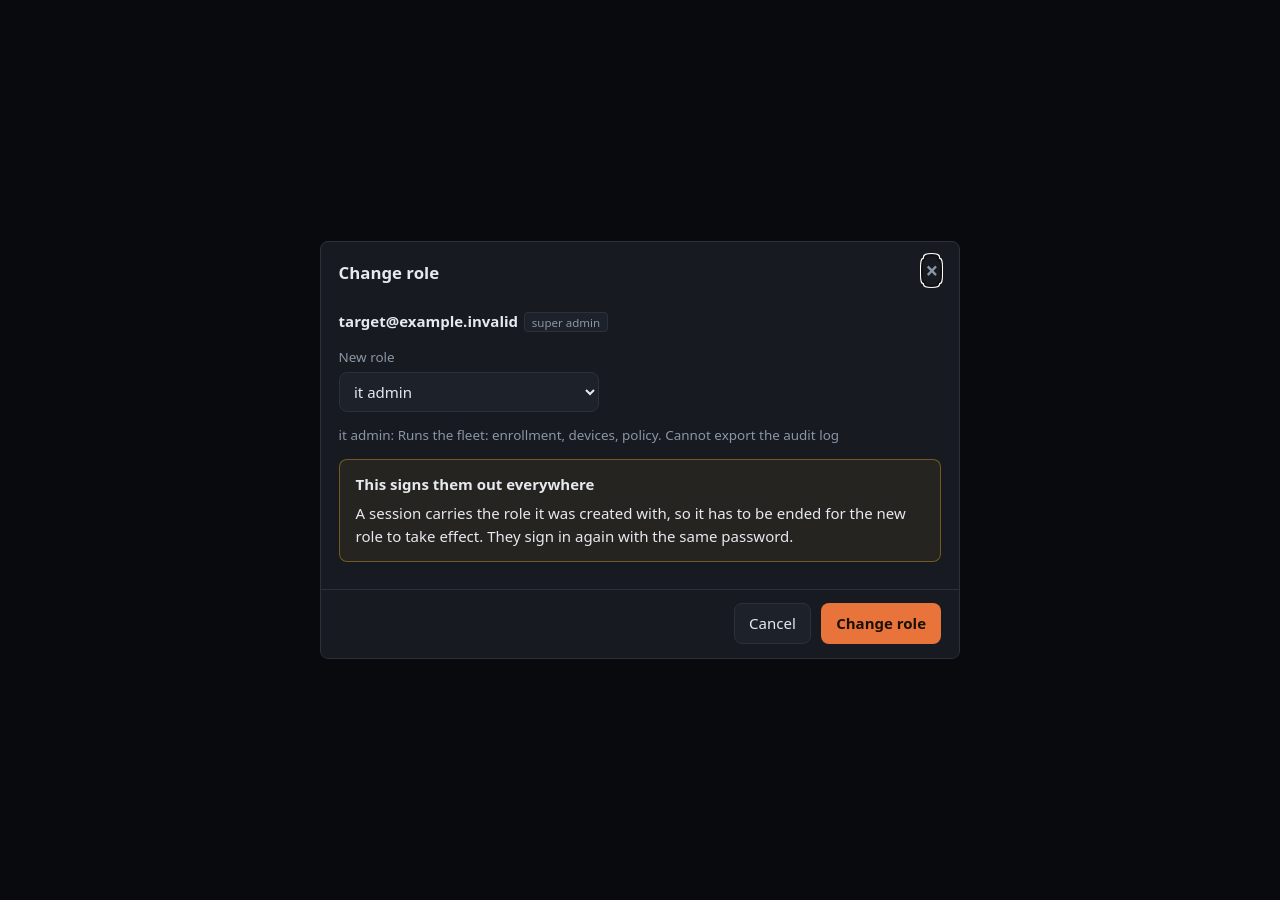
UserActionsDialog › change role › renders the last-super_admin refusal from the server
This screenshot has width=1280, height=900.
Select "auditor" in the dropdown labelled "New role" at (469, 392), box 339,372 -> 599,412
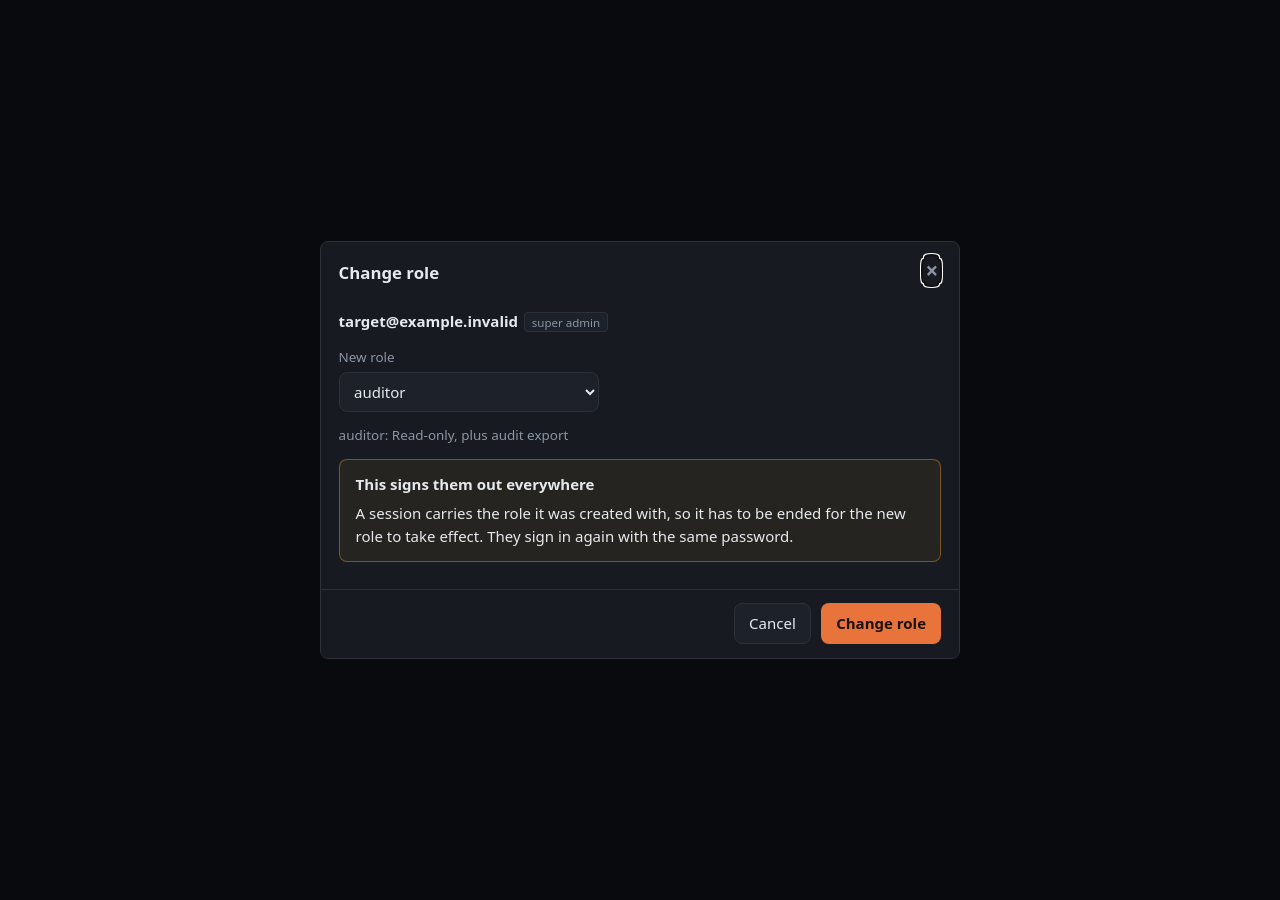
Click the button "Change role" at (881, 624), box 821,603 -> 941,644
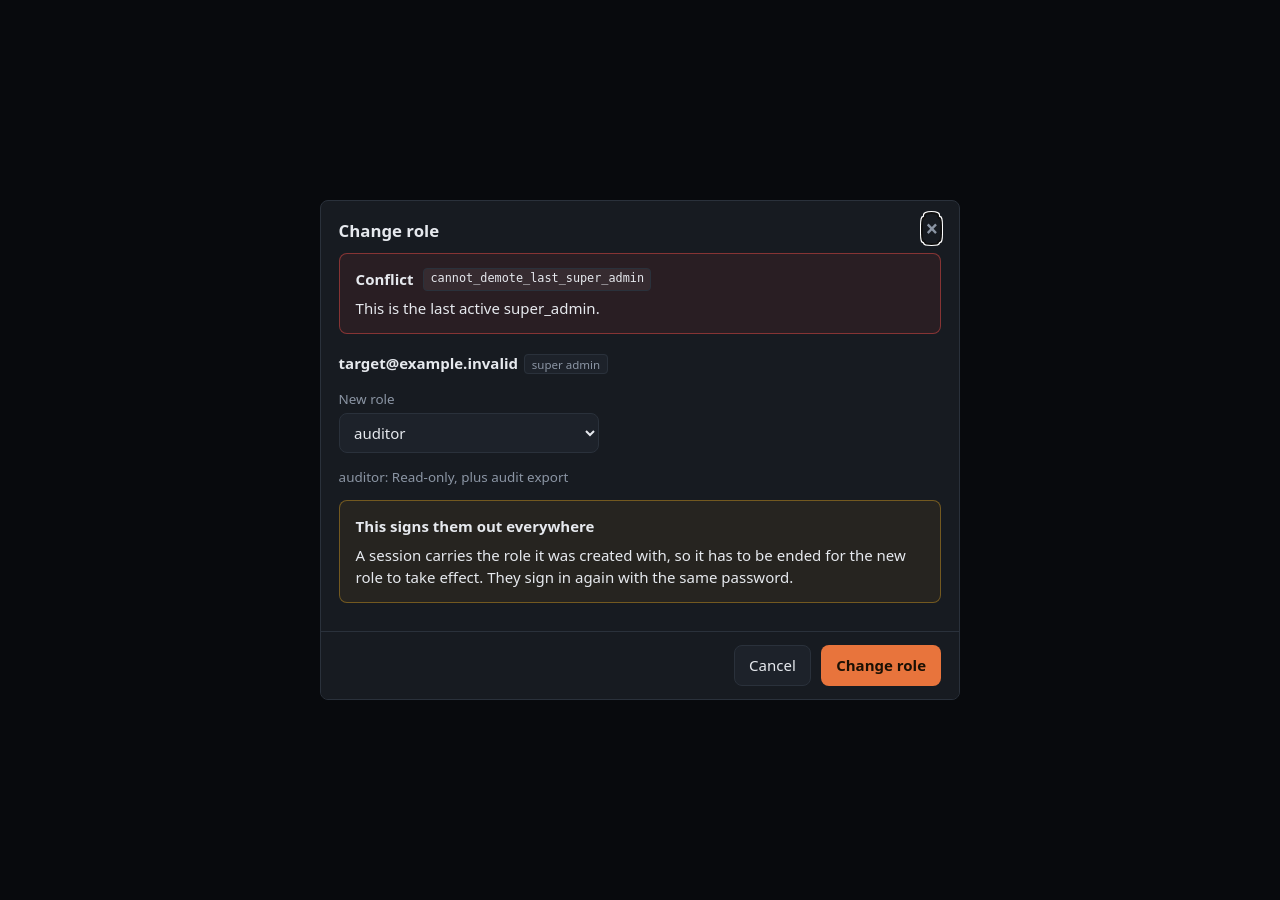
Result: the text "cannot_demote_last_super_admin" is shown at 423,268 -> 652,291
